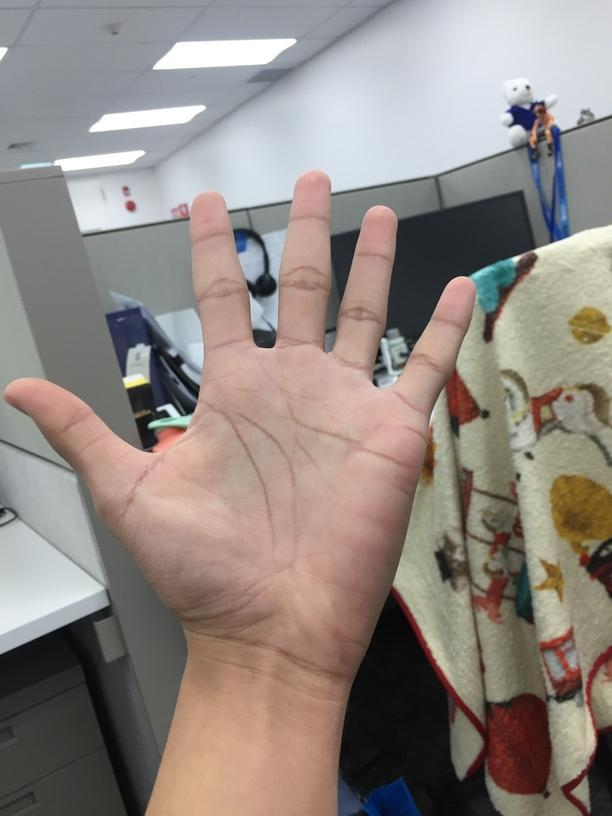hand: (1, 171, 483, 692)
